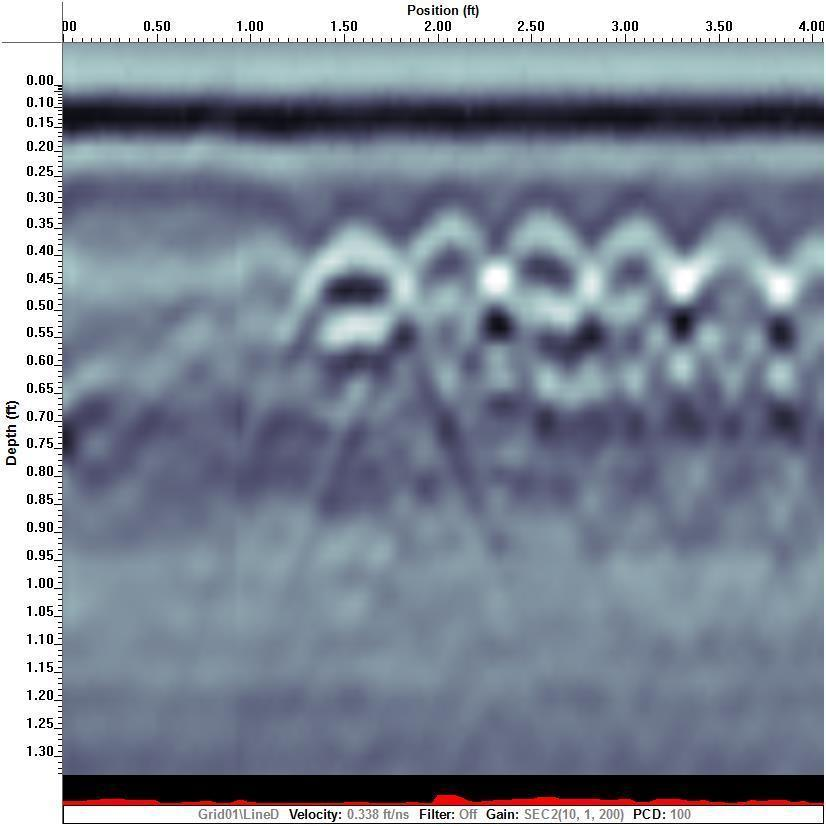Hyperbola: (272, 169, 407, 444), (503, 189, 612, 410), (417, 173, 500, 431), (598, 197, 697, 401), (686, 218, 786, 377)
